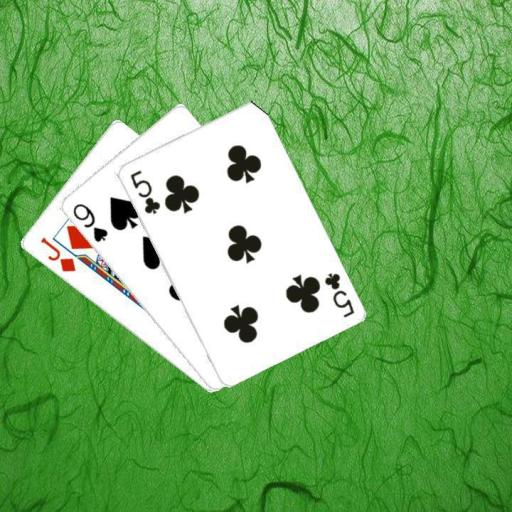card-corner: (320, 268, 356, 318), (69, 200, 109, 244), (126, 166, 161, 216), (36, 234, 77, 274)
